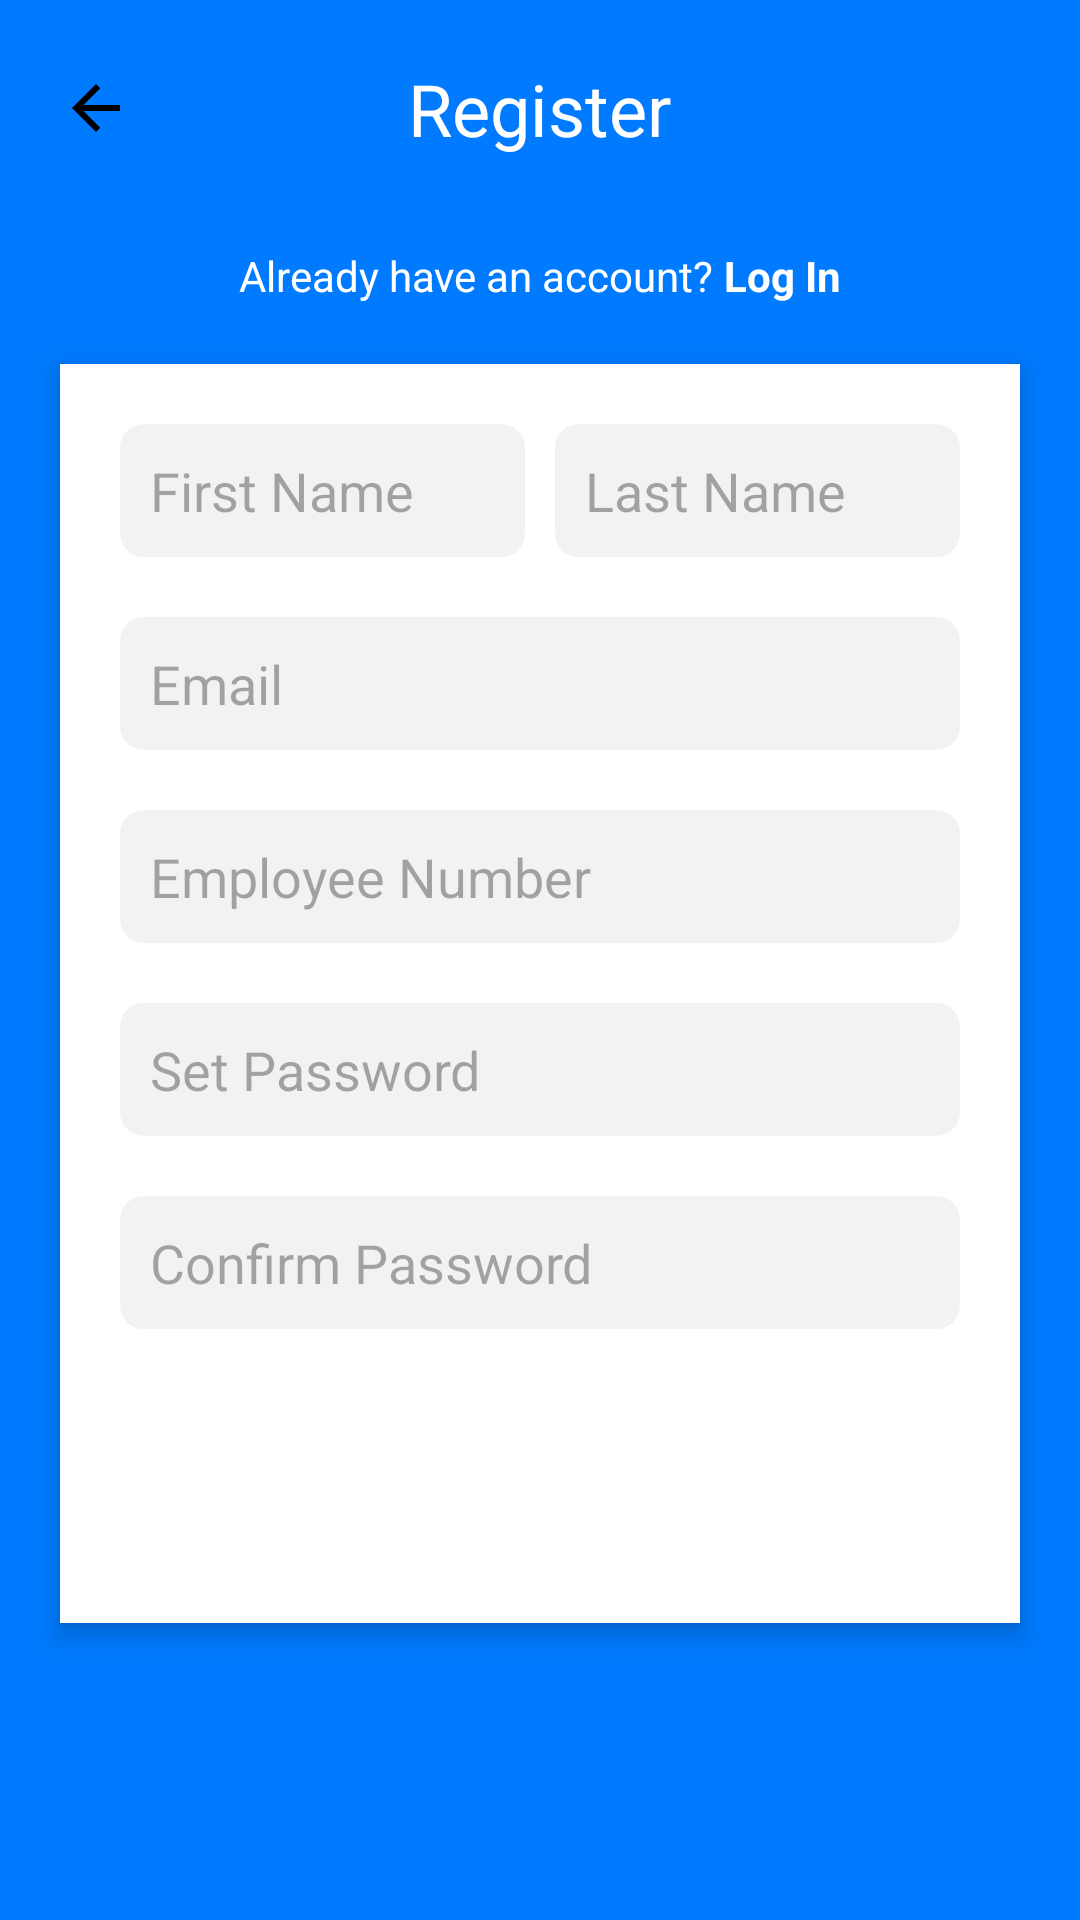

Locate icon controls on the screen. Image size 1080px×1920px, boxes as (x1, y1, x2, y2).
back arrow: (72, 84, 120, 132)
